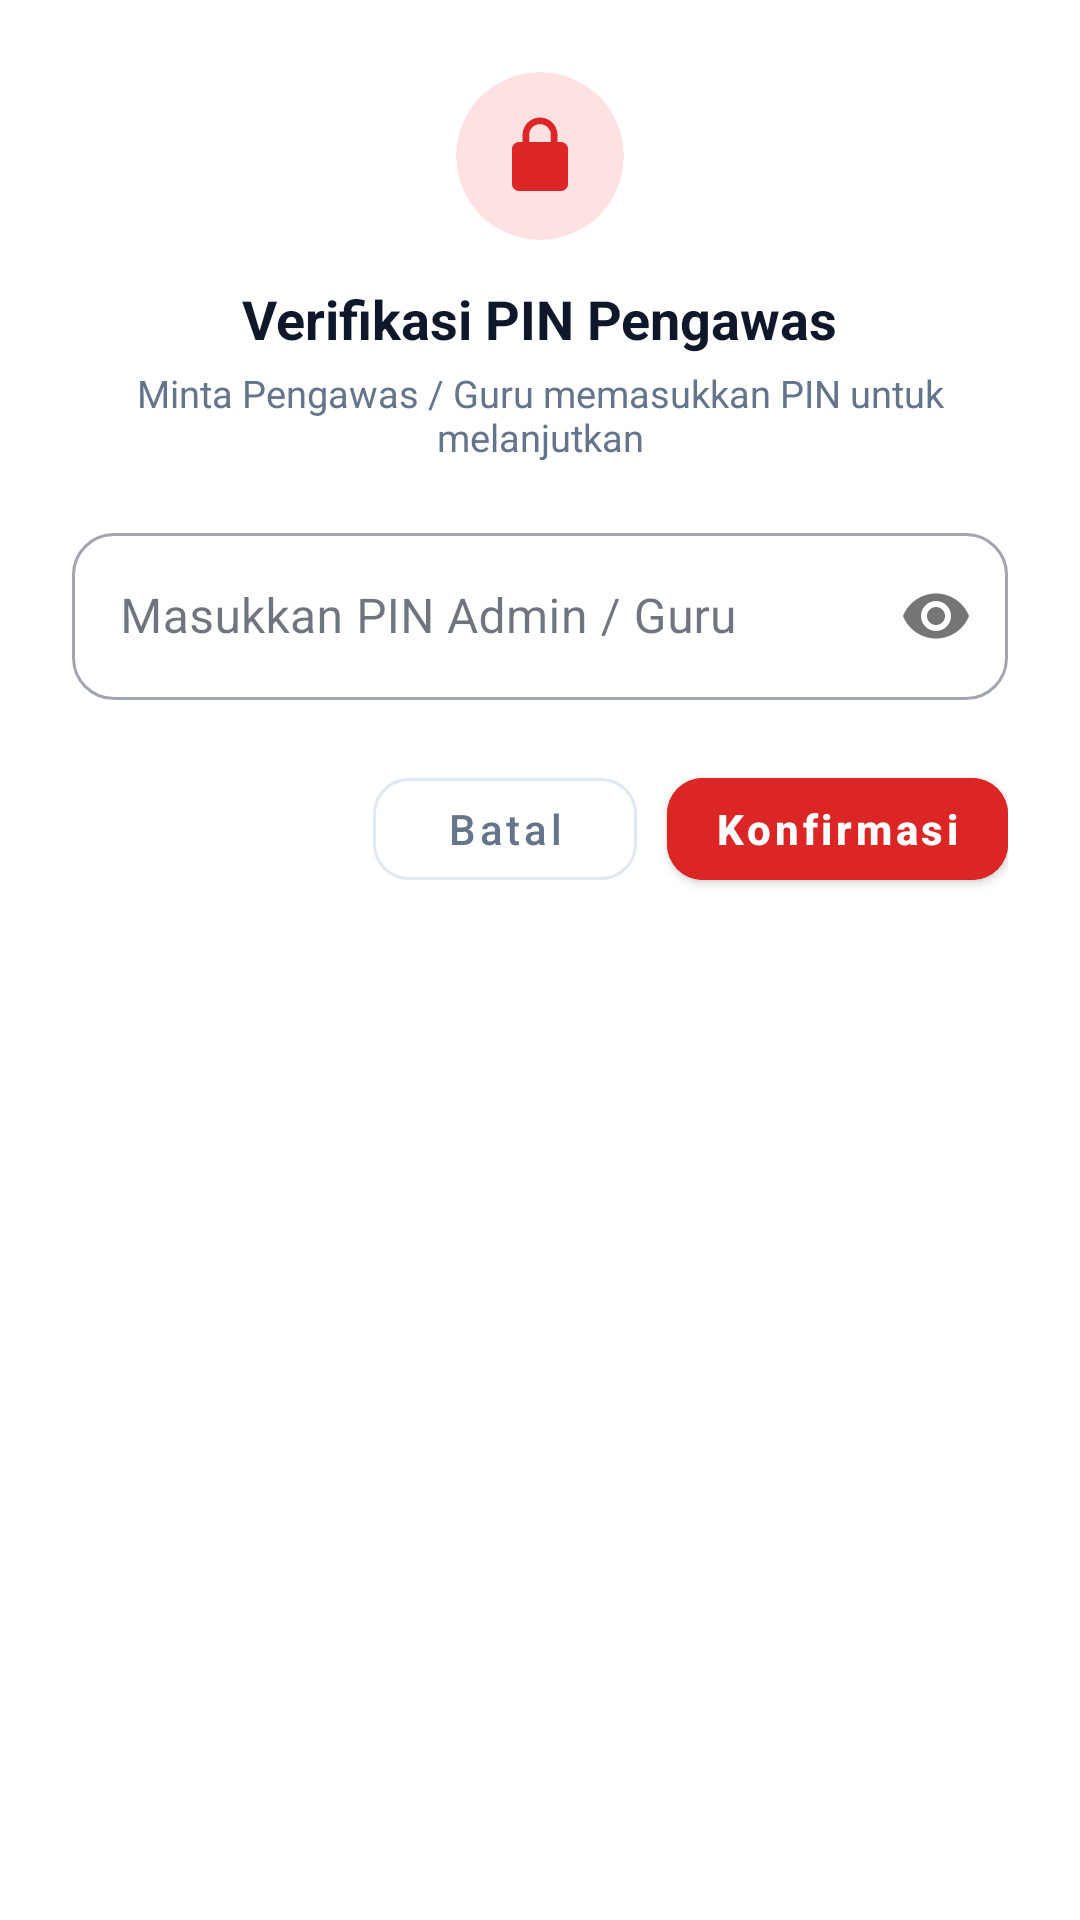

Icons on this 1080x1920 Android screen, each with its box as (x1, y1, x2, y2):
Lock Icon: (512, 117, 568, 191)
